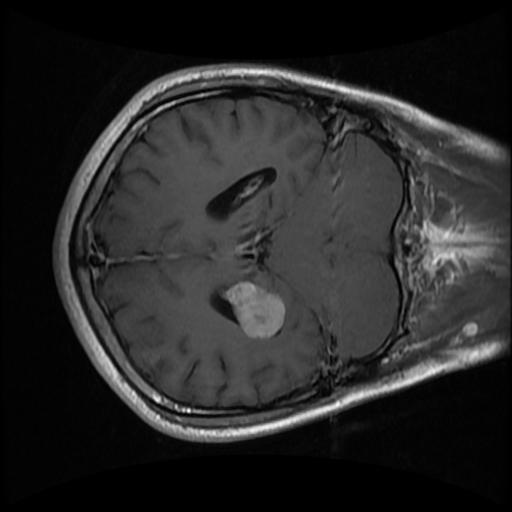meningioma: (226, 282, 284, 339)
